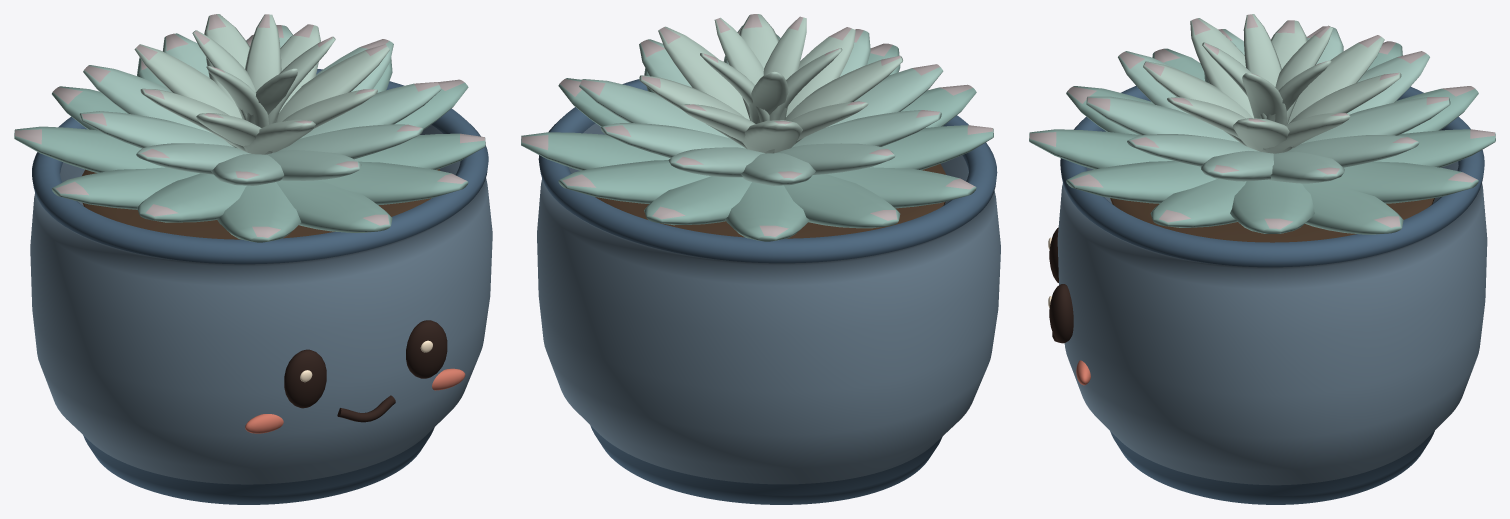
The model's file is echeveria-v1.glb.
3 views of the same model, side by side, from view 1: azimuth 30°, elevation 25°; view 2: azimuth 150°, elevation 25°; view 3: azimuth 270°, elevation 25° (orthographic).
Visible parts, largest first — view 1: Wheel-thrown ceramic, Foliage draw mesh, Soil, Eye, Eye.001, Smile, Cheek, Cheek.001; view 2: Wheel-thrown ceramic, Foliage draw mesh, Soil; view 3: Wheel-thrown ceramic, Foliage draw mesh, Soil, Eye.001.
Boxes of the visible parts, box(x1,y1,x2,y2) form: Wheel-thrown ceramic: box(30, 69, 492, 504); Foliage draw mesh: box(14, 14, 485, 242); Soil: box(82, 169, 440, 239); Eye: box(284, 349, 326, 408); Eye.001: box(406, 320, 447, 378); Smile: box(337, 395, 395, 422); Cheek: box(245, 414, 283, 433); Cheek.001: box(432, 368, 465, 390); Wheel-thrown ceramic: box(537, 79, 1000, 504); Foliage draw mesh: box(521, 14, 993, 241); Soil: box(595, 164, 946, 238); Wheel-thrown ceramic: box(1057, 86, 1487, 504); Foliage draw mesh: box(1029, 14, 1495, 234); Soil: box(1110, 198, 1434, 242); Eye.001: box(1049, 284, 1073, 343).
Size of the model in its own units: 1.62 by 1.51 by 1.62.
